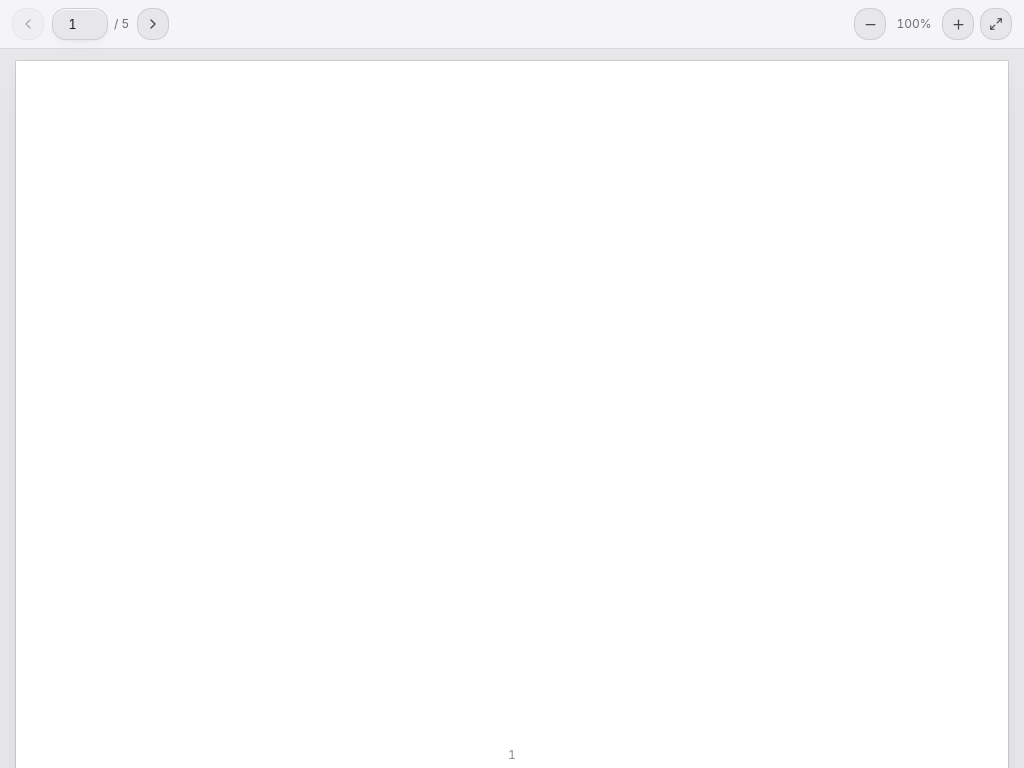
PdfPageViewer › jumps to a typed page and disables next on the last page
The image size is (1024, 768).
Replace the text in the number field named "Salt la pagina" with "5". click: (80, 24)
box: [52,8,108,40]
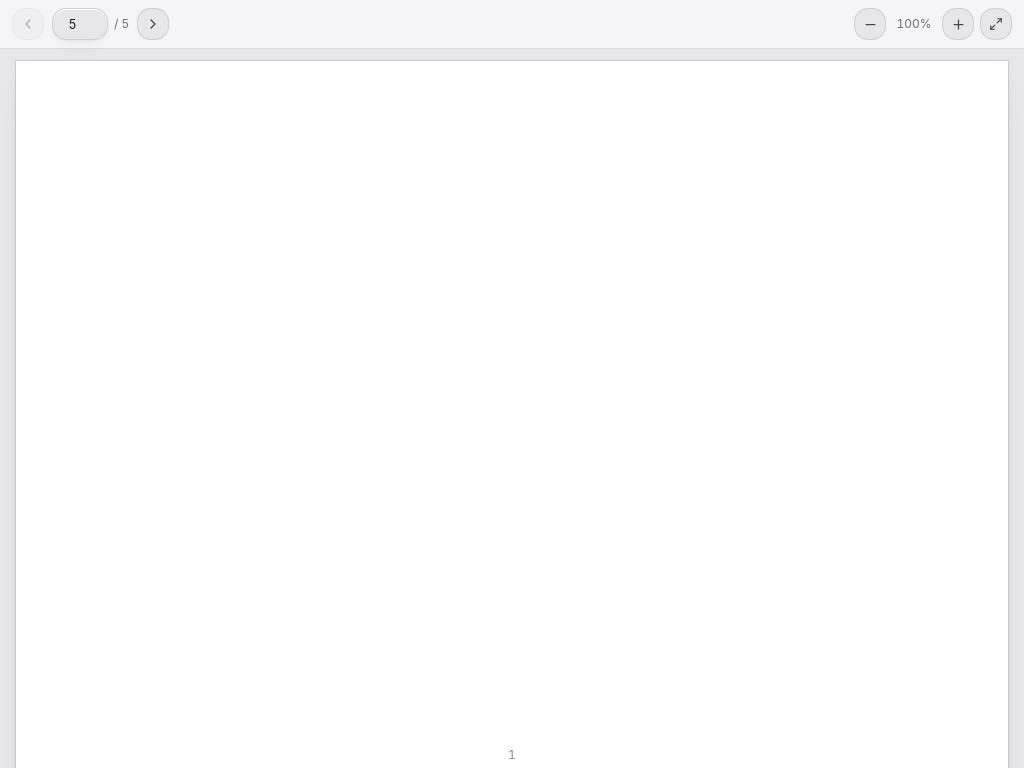
Submit the form named "Salt la pagina", box [52,8,129,40]
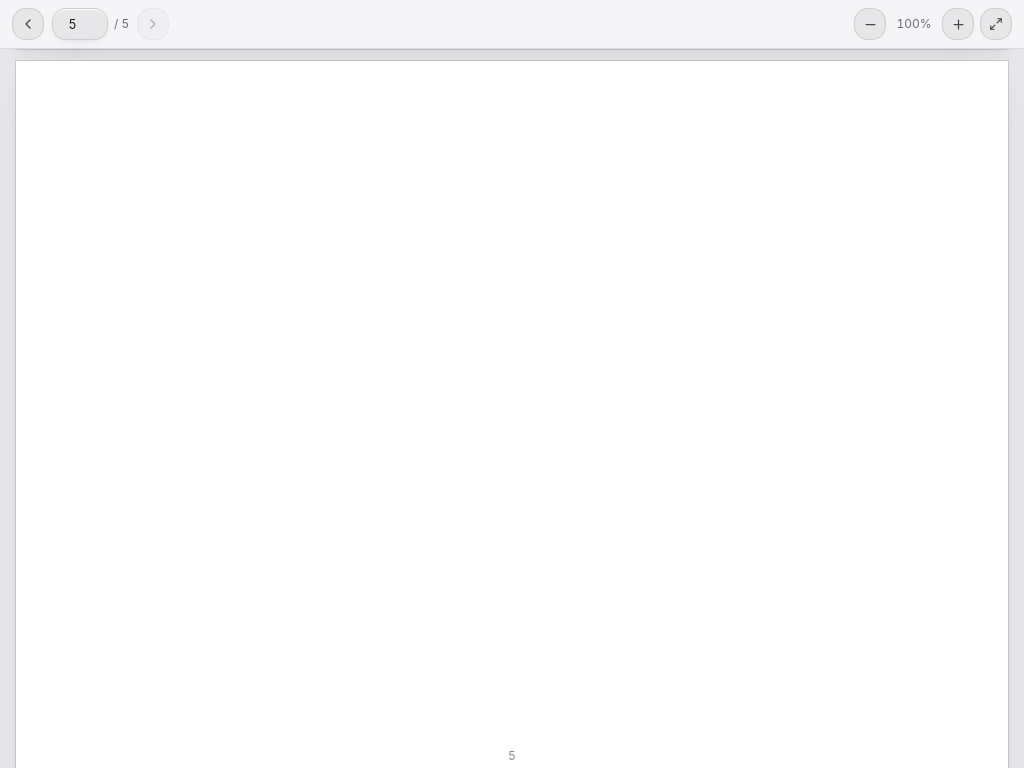
Check: the button named "Pagina următoare" is disabled, box [137,8,169,40]
Click the button named "Pagina anterioară". click: (28, 24)
box: [12,8,44,40]
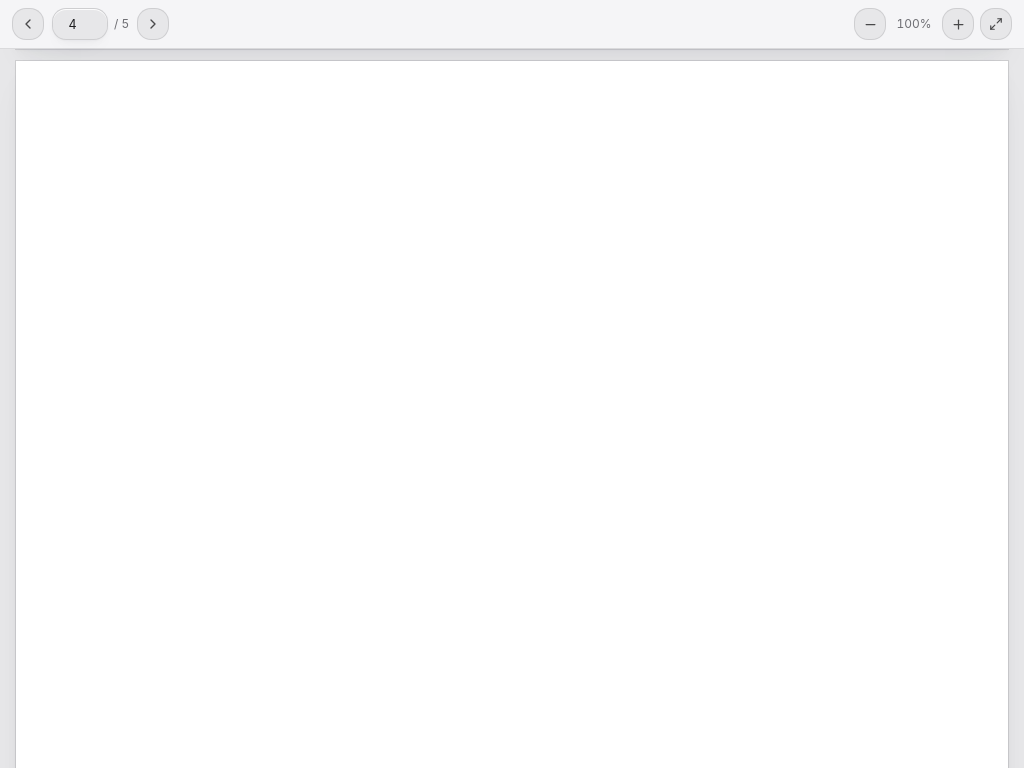
Check: the number field named "Salt la pagina" holds "4", box [52,8,108,40]
